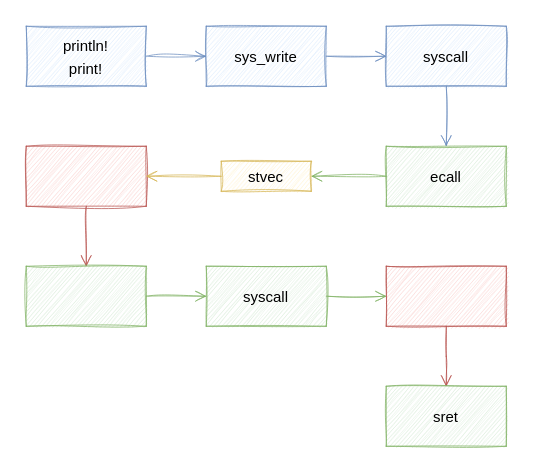
Some shapes in this 533 by 473 pixel diagram are drawn without their labels. The shapes that lost their labels are listed below. From the top down, each one's box as (x1, y1, x2, y2) in pixels, then its label:
(25, 145, 146, 206): __alltraps
(25, 265, 146, 326): trap_handler
(385, 265, 506, 326): __restore
